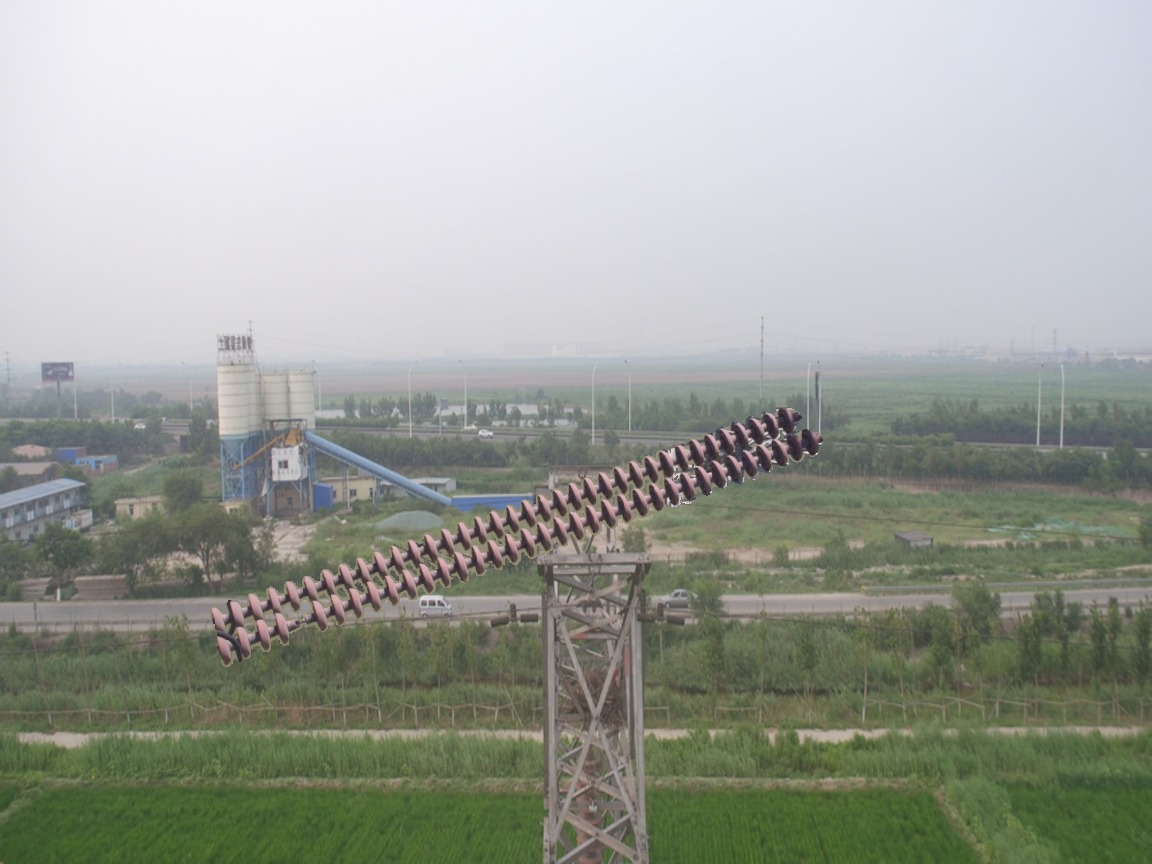defect: (270, 598, 333, 645)
